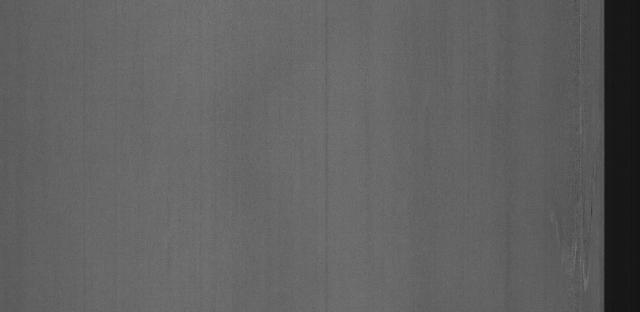silk_spot: (540, 200, 599, 295)
